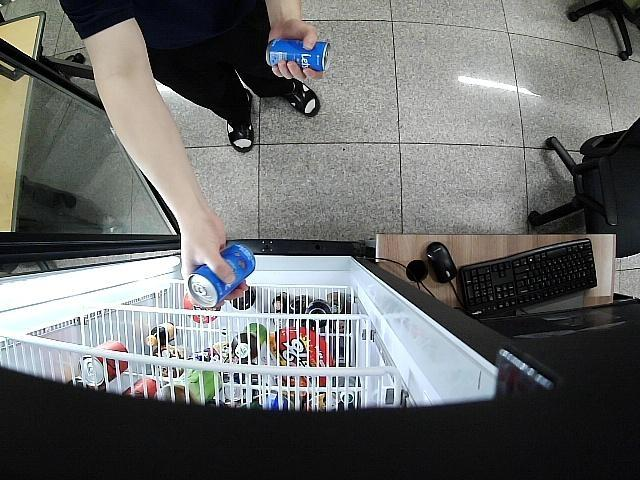15_letsbe: (187, 246, 256, 308), (266, 39, 331, 70)
